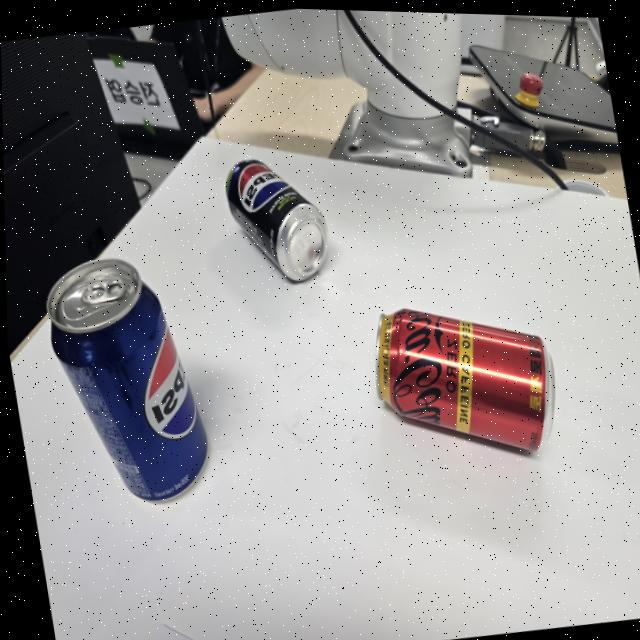can_coke_decaf: (377, 308, 555, 453)
can_pepsi: (47, 262, 209, 505)
can_pepsi_zero: (225, 157, 327, 284)
